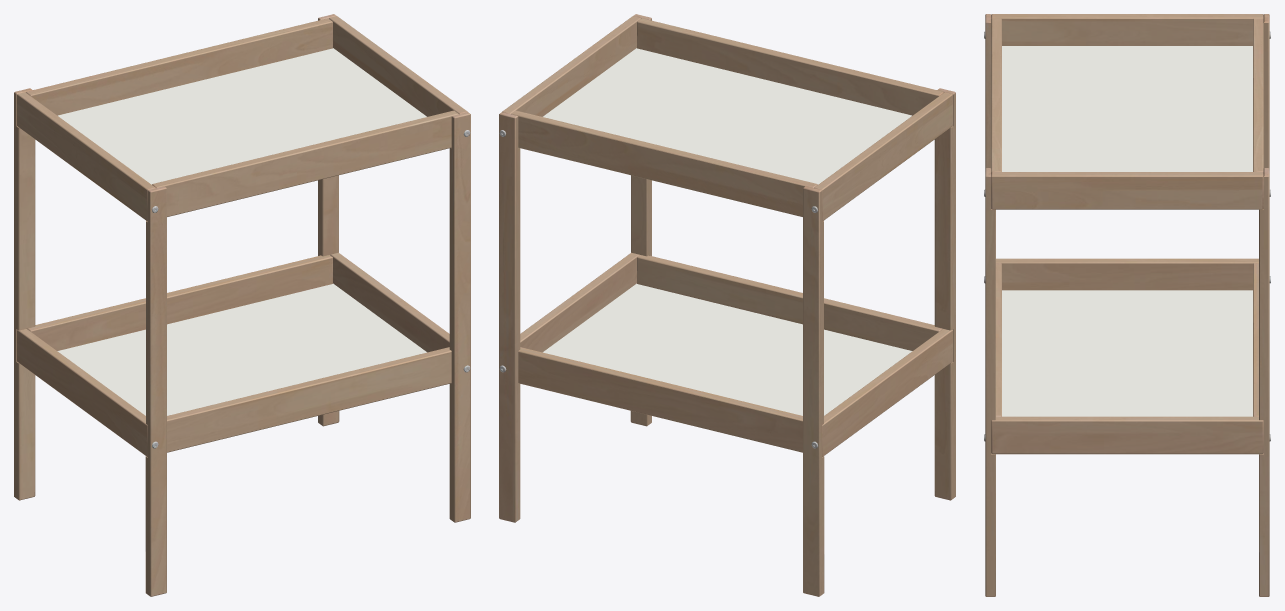
File: sniglar_sto_do_przewijania_20045205.glb
3 renders of one model, left to right at view 1: azimuth 30°, elevation 25°; view 2: azimuth 150°, elevation 25°; view 3: azimuth 270°, elevation 25°, orthographic. The views are drawn at different scales.
Visible parts, largest first — view 1: sniglar_sto_do_przewijania_20045205; view 2: sniglar_sto_do_przewijania_20045205; view 3: sniglar_sto_do_przewijania_20045205.
Part boxes in pixels (left/top/right/bottom): sniglar_sto_do_przewijania_20045205: left=14, top=14, right=470, bottom=596; sniglar_sto_do_przewijania_20045205: left=499, top=14, right=955, bottom=596; sniglar_sto_do_przewijania_20045205: left=984, top=14, right=1270, bottom=596.
Bounding box in the file's own units: 0.7201 × 0.87 × 0.5371.
1 material, 1 textured.
